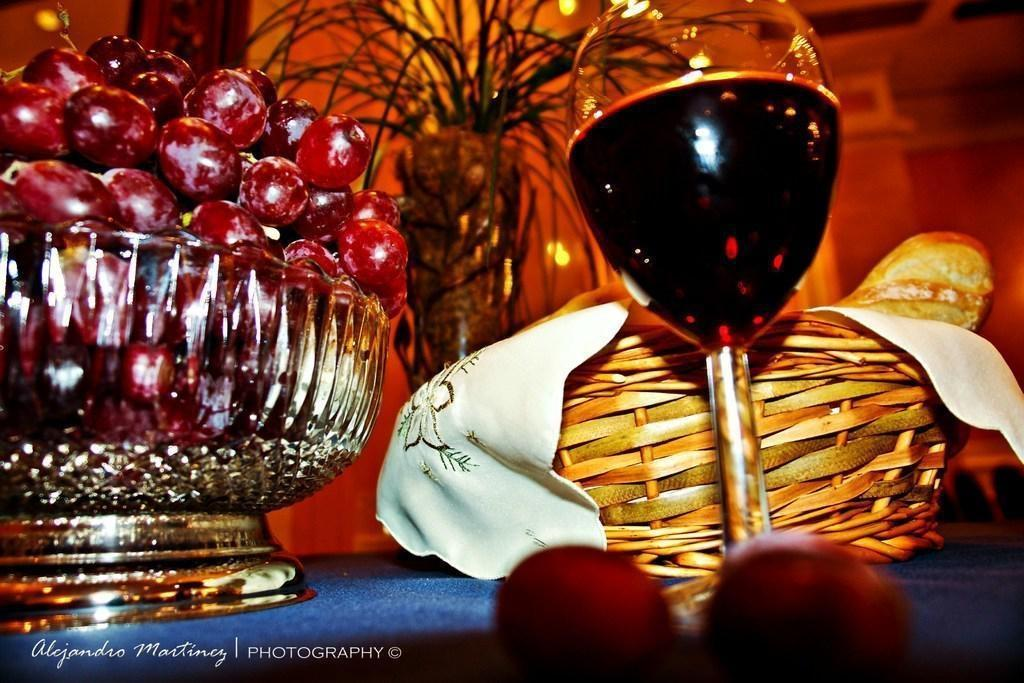glass-wine: (562, 0, 844, 633)
